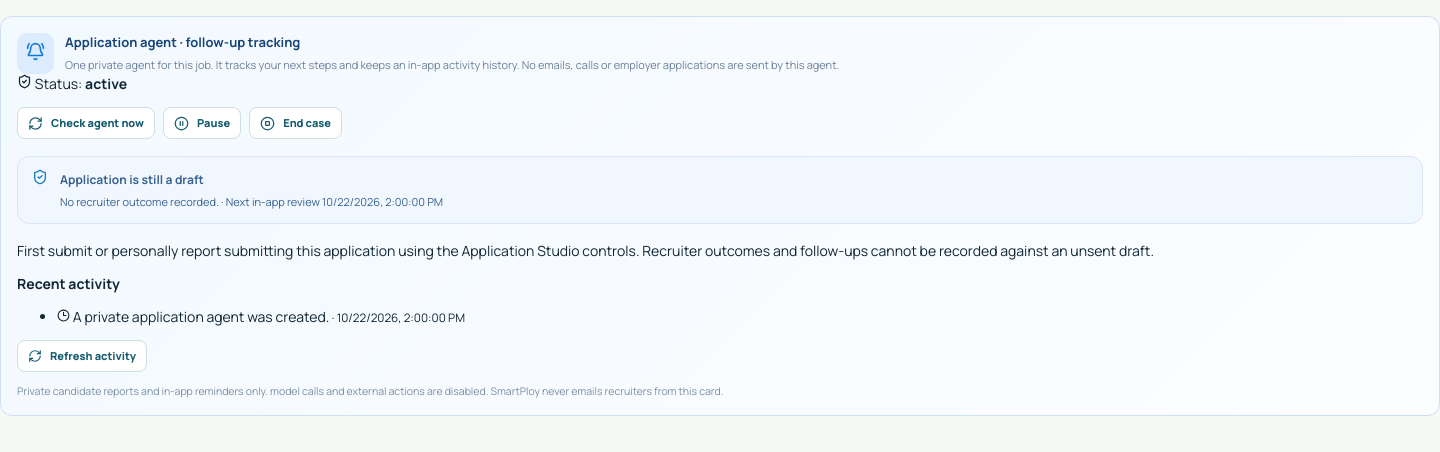
Test: Agent Zero in the existing application studio › shows no-due update honestly and never claims scheduled background activation
Step 1. Click the button "Check agent now" → click(86, 123), box [17,107,155,139]
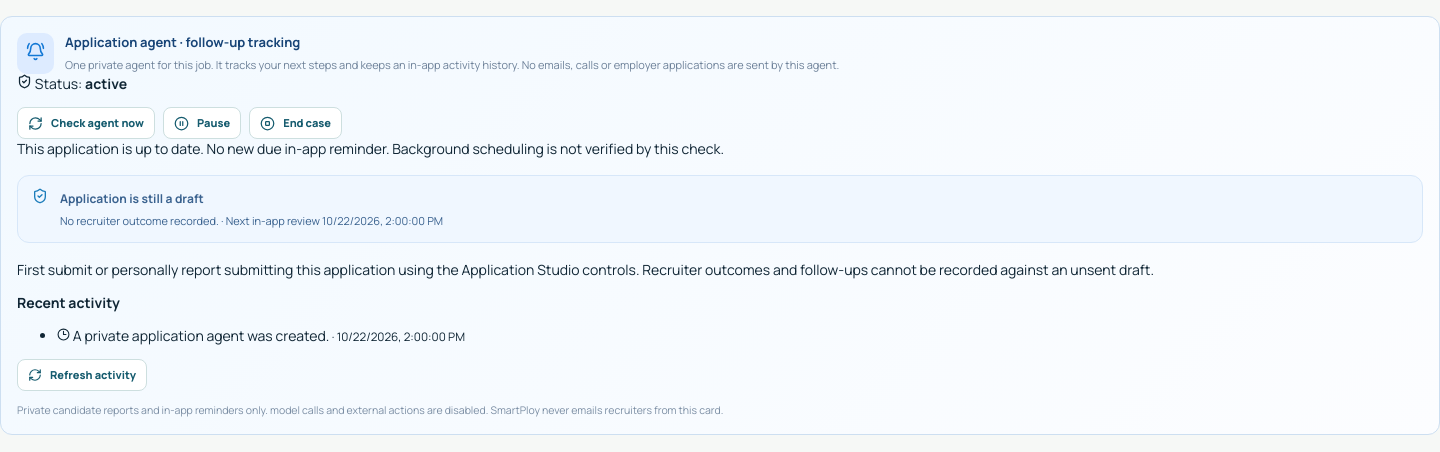
Check: the text "Background scheduling is not verified" is shown, box [17,139,724,158]
